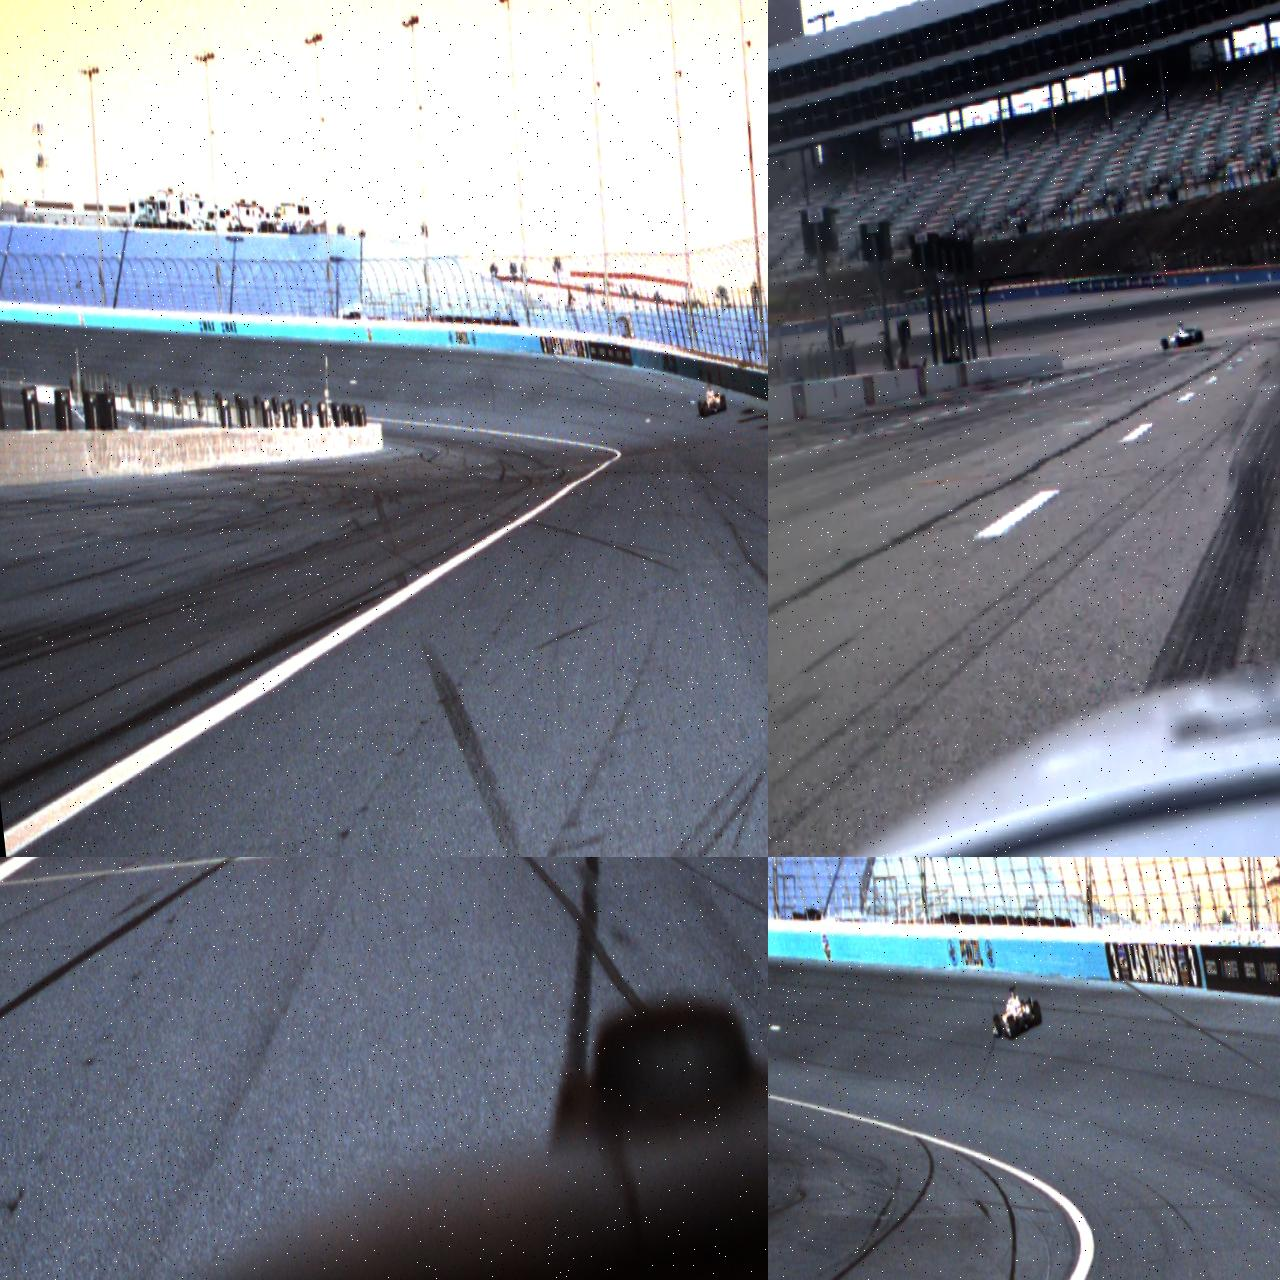AV: (989, 983, 1044, 1042), (1158, 320, 1205, 350), (696, 382, 727, 416)
Wheel: (1006, 1015, 1017, 1039), (1032, 1000, 1042, 1024), (993, 1014, 1002, 1037), (720, 395, 727, 411), (702, 401, 709, 415), (1194, 331, 1203, 342), (1162, 338, 1169, 350), (1176, 336, 1183, 348), (697, 401, 702, 415)
